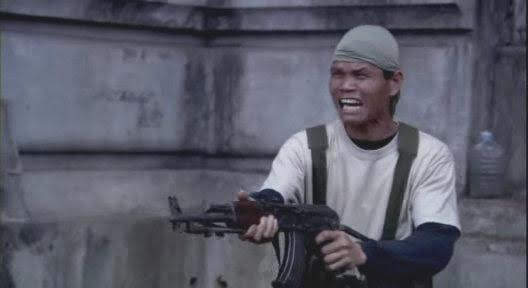gun: (154, 187, 363, 285)
